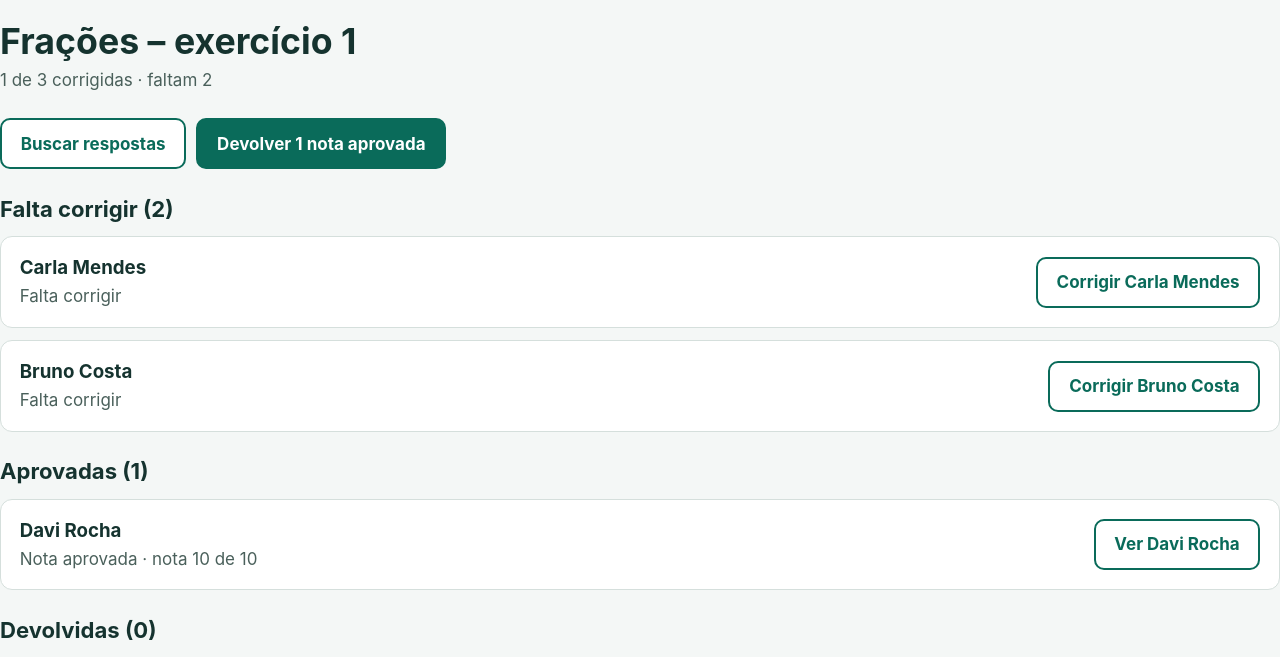
Test case: correction queue › corrects a written answer, approves it and moves to the next student
The image size is (1280, 657).
Check: the heading "Falta corrigir (2)" is shown, box [0, 196, 174, 222]
Click the button "Corrigir Carla Mendes".
click(1148, 282)  # box [1036, 257, 1260, 308]
(page scrolled)
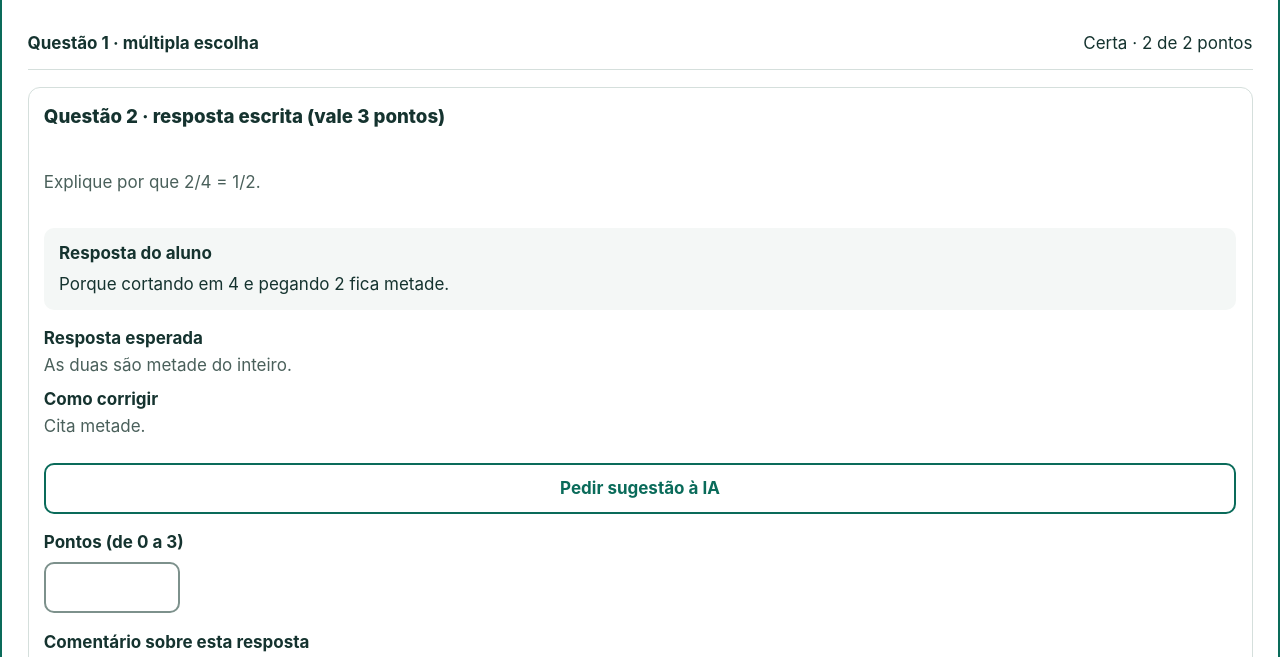
Check: the text "Certa · 2 de 2 pontos" is shown, box [1083, 30, 1252, 56]
Check: the text "As duas são metade do inteiro." is shown, box [44, 355, 292, 375]
Type "1.5" into the number field labelled "Pontos (de 0 a 3)".
click(112, 588); type("1.5")  # box [44, 562, 180, 613]
(page scrolled)
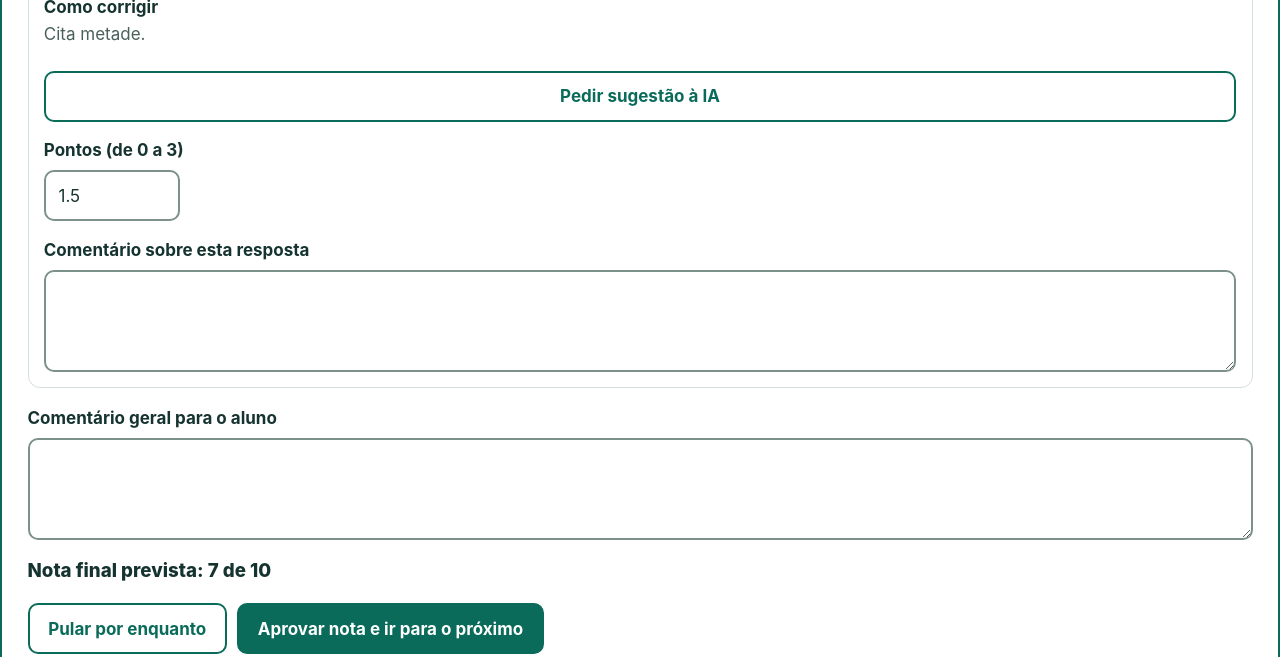
Type "Faltou dizer que é metade." into the text box labelled "Comentário sobre esta resposta".
click(640, 321); type("Faltou dizer que é metade.")  # box [44, 270, 1236, 372]
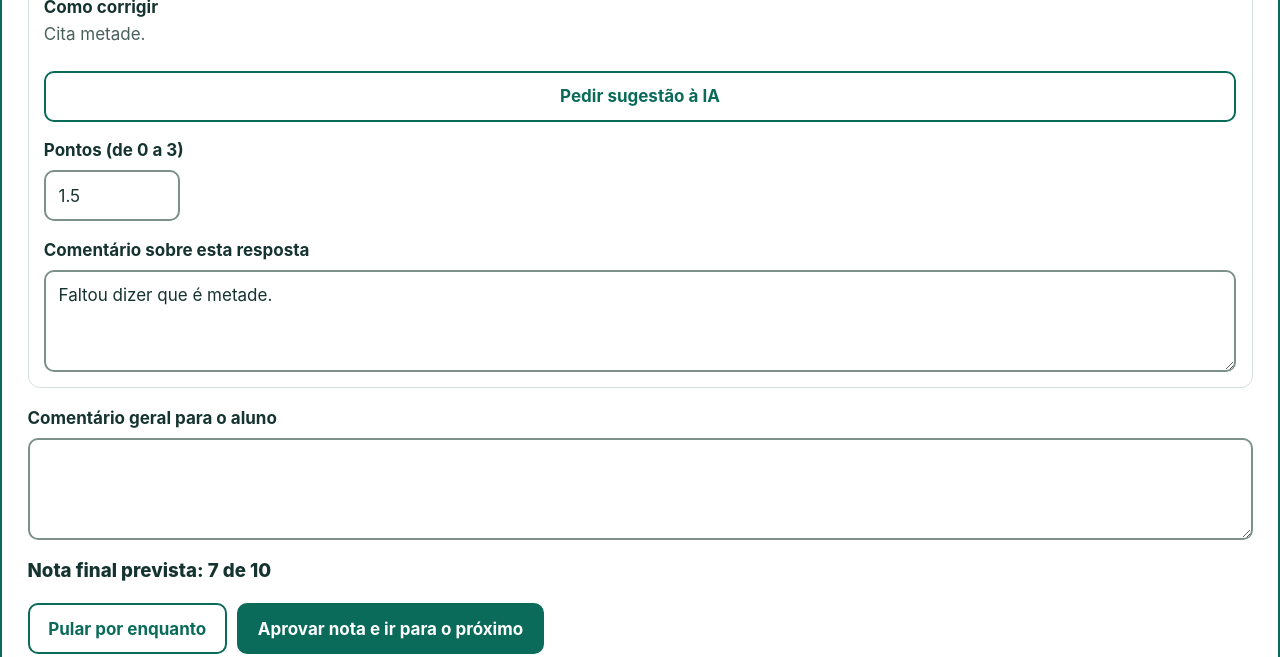
Type "Bom começo." into the text box labelled "Comentário geral para o aluno".
click(640, 489); type("Bom começo.")  # box [28, 438, 1252, 540]
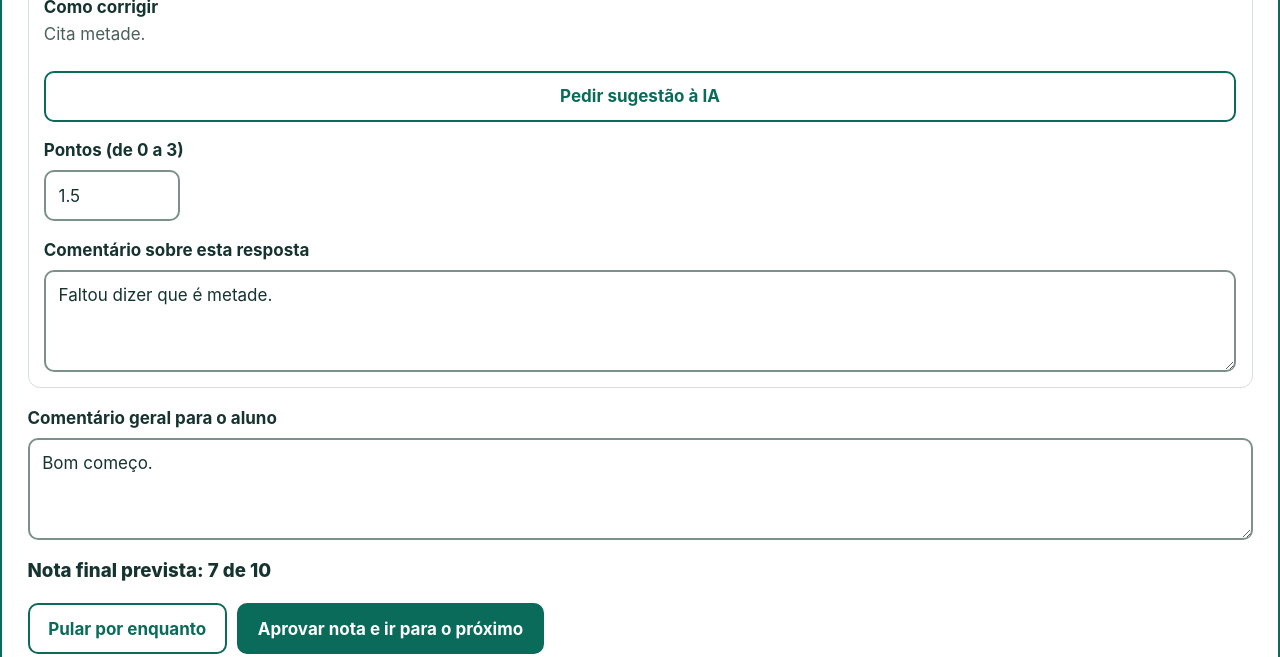
Check: the text "Nota final prevista: 7 de 10" is shown, box [28, 559, 271, 582]
Click the button "Aprovar nota e ir para o próximo".
click(390, 629)  # box [237, 603, 544, 654]
(page scrolled)
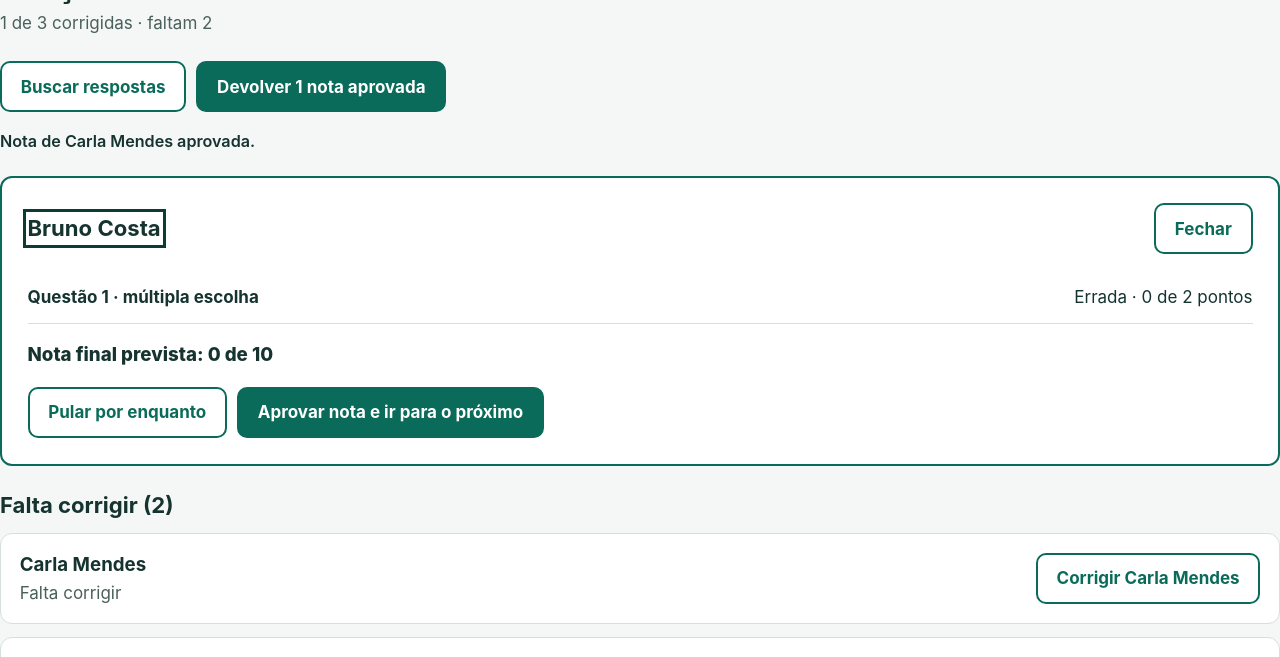
Check: the text "Nota de Carla Mendes aprovada." is shown, box [0, 131, 255, 151]
Check: the element named "Correção de Bruno Costa" is shown, box [0, 176, 1279, 466]
